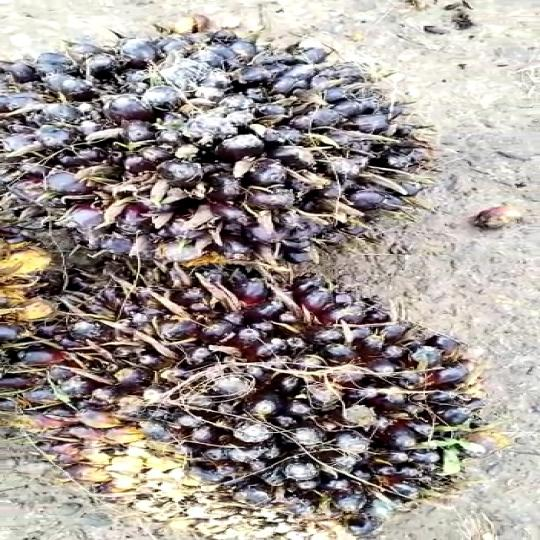mentah: (0, 267, 482, 532), (0, 15, 405, 277)
